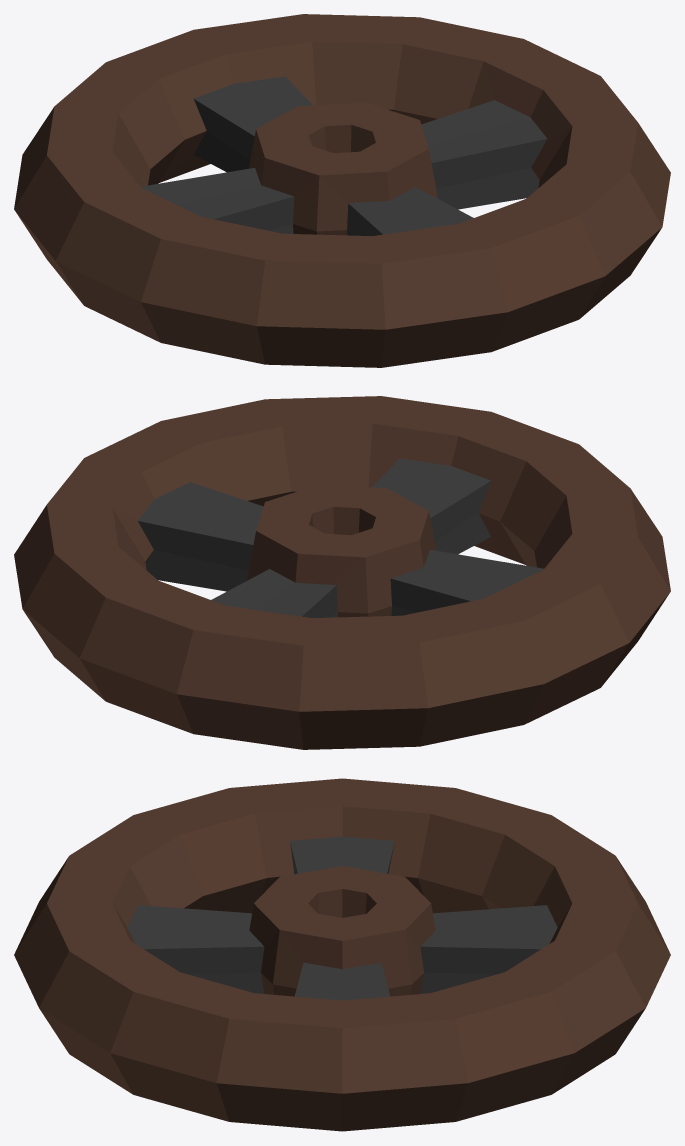
Rendered from Wheel.fbx.
The picture shows the model from 3 angles, top to bottom: view 1: azimuth 30°, elevation 25°; view 2: azimuth 150°, elevation 25°; view 3: azimuth 270°, elevation 25°; orthographic projection.
Parts seen in each view (by area): view 1: Wheel; view 2: Wheel; view 3: Wheel.
Part boxes in pixels (<box>): Wheel: <box>14,14,670,367</box>; Wheel: <box>14,396,670,749</box>; Wheel: <box>14,778,670,1131</box>.
Size of the model in its own units: 250 by 43.3 by 250.
